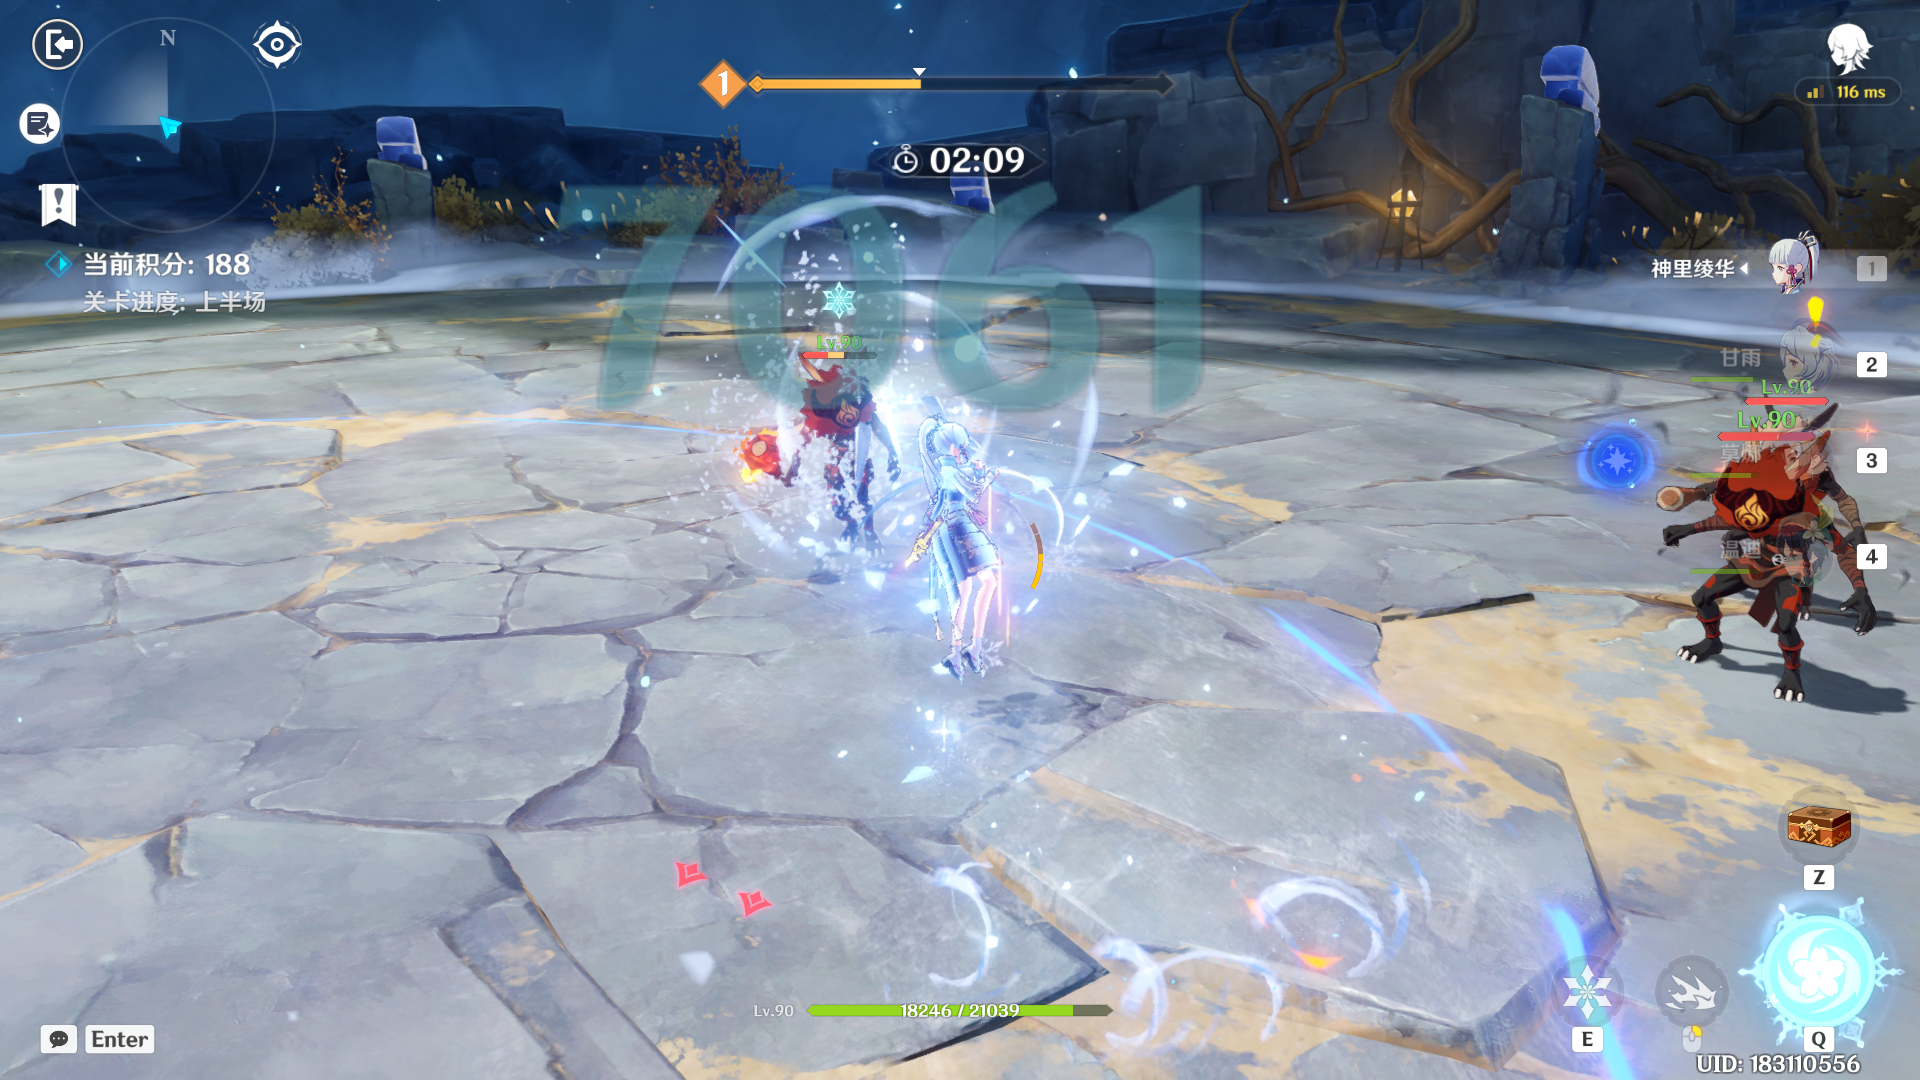character: (858, 394, 1083, 705)
hili: (1636, 410, 1851, 738), (736, 319, 918, 570)
